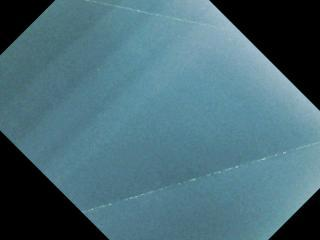crack: (81, 139, 320, 215), (86, 0, 245, 34)
